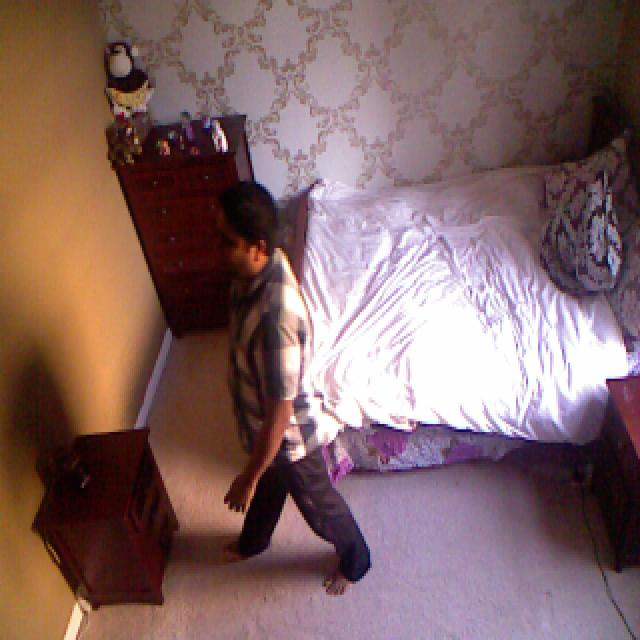standing: (210, 187, 371, 604)
